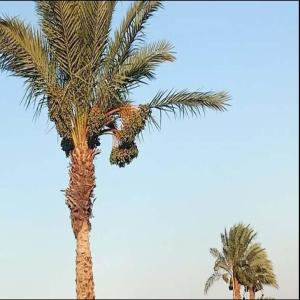palm tree: (0, 0, 233, 298), (204, 220, 278, 298)
